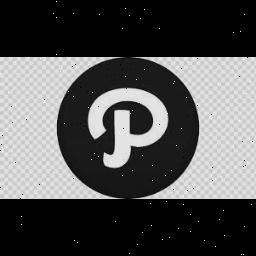p: (114, 82, 174, 172)
